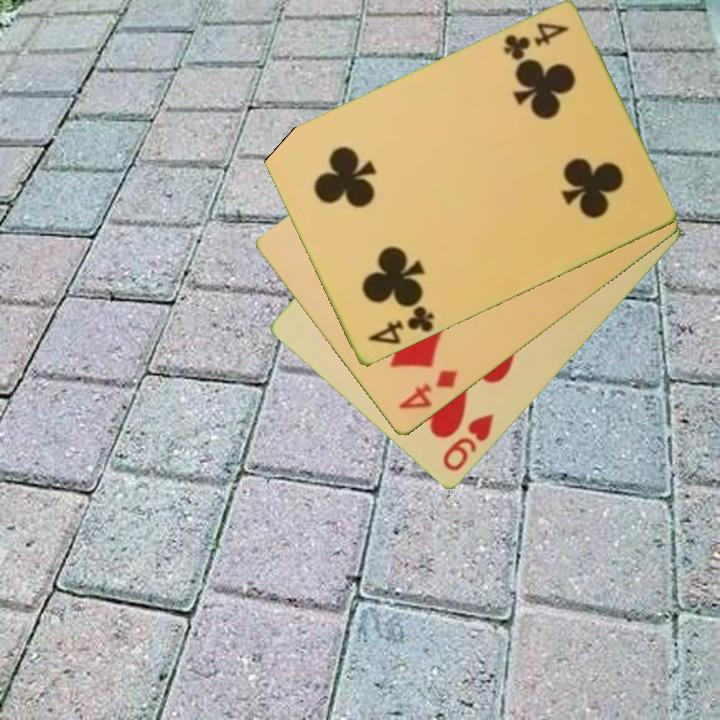4c: (364, 299, 437, 349), (499, 19, 571, 64)
4d: (394, 366, 461, 413)
9h: (439, 410, 497, 475)
